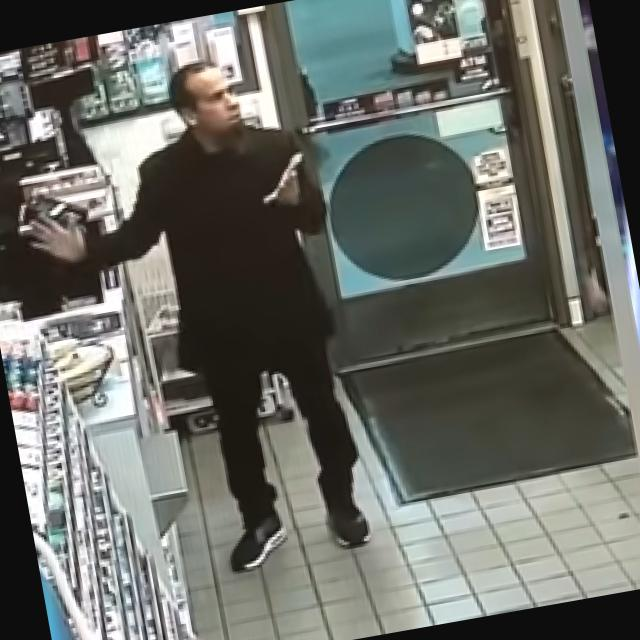person: (0, 44, 387, 597)
